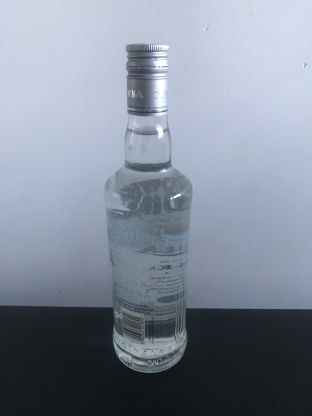nakretka: (124, 41, 171, 118)
